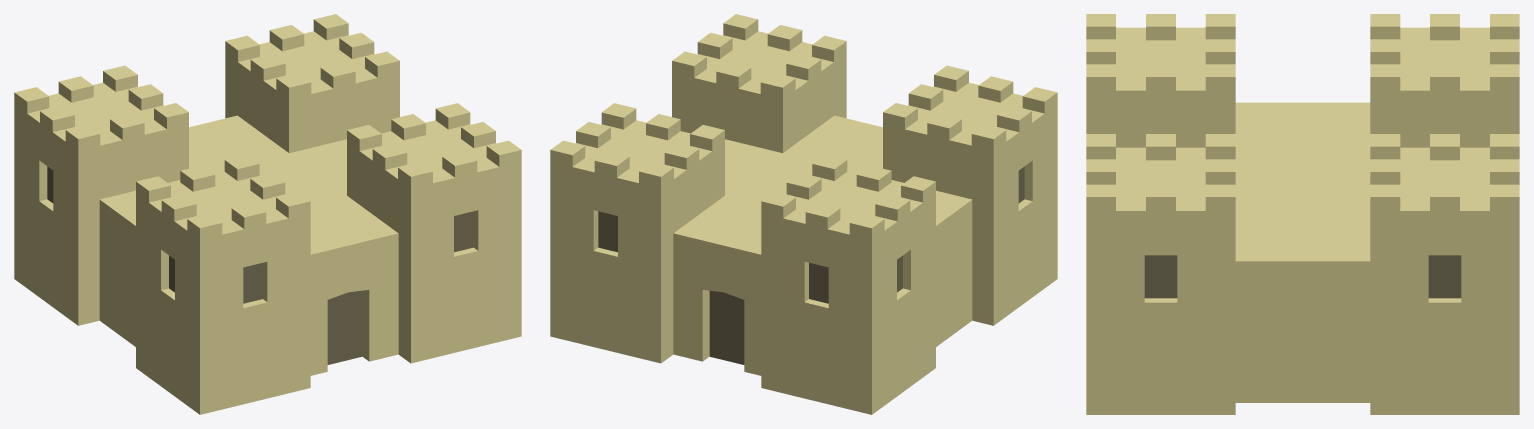
Rendered from Sandcastle.fbx.
3 views of the same model, side by side, from view 1: azimuth 30°, elevation 25°; view 2: azimuth 150°, elevation 25°; view 3: azimuth 270°, elevation 25° (orthographic). The views are drawn at different scales.
Visible parts, largest first — view 1: Sandcastle; view 2: Sandcastle; view 3: Sandcastle.
Part boxes in pixels (x1=…): Sandcastle: x1=14, y1=14, x2=521, y2=414; Sandcastle: x1=550, y1=14, x2=1057, y2=414; Sandcastle: x1=1086, y1=14, x2=1519, y2=414.
Size of the model in its own units: 0.9349 by 0.5186 by 0.9349.
